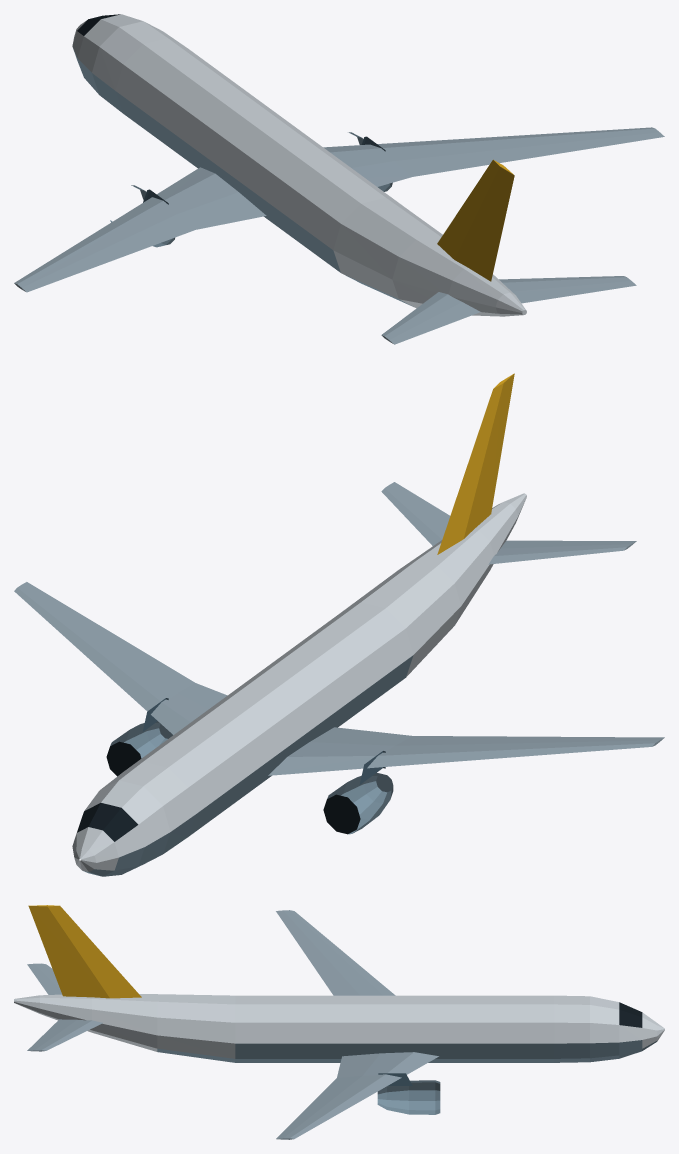
3 views of the same model, one above another, from view 1: azimuth 30°, elevation 25°; view 2: azimuth 150°, elevation 25°; view 3: azimuth 270°, elevation 25° (orthographic). The views are drawn at different scales.
Visible parts, largest first — view 1: lod0; view 2: lod0; view 3: lod0.
Boxes of the visible parts, x1,y1,x2,y2 form: lod0: [14, 14, 664, 344]; lod0: [14, 373, 664, 876]; lod0: [14, 905, 664, 1139].
Size of what is drawn, in the model's own units: 0.8288 by 0.2849 by 1.
